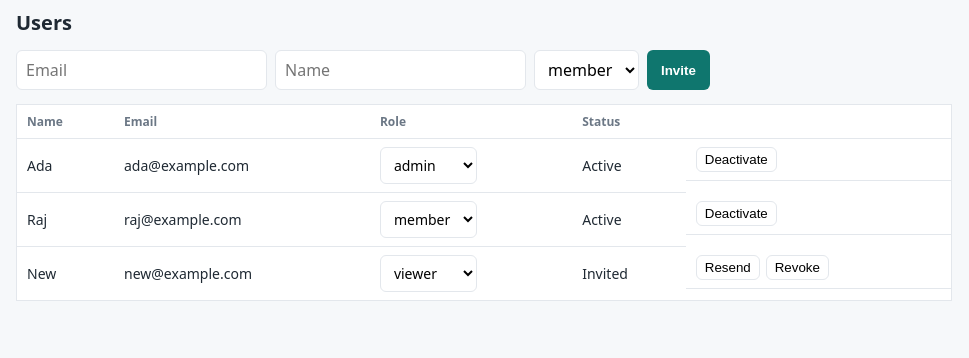
Test case: UsersAdmin › shows server errors (e.g. last admin)
Expected: the row with test id "user-1" is shown, [16, 138, 952, 192]
Click the button with test id "deactivate-1".
click(736, 160)  # box [696, 147, 777, 172]
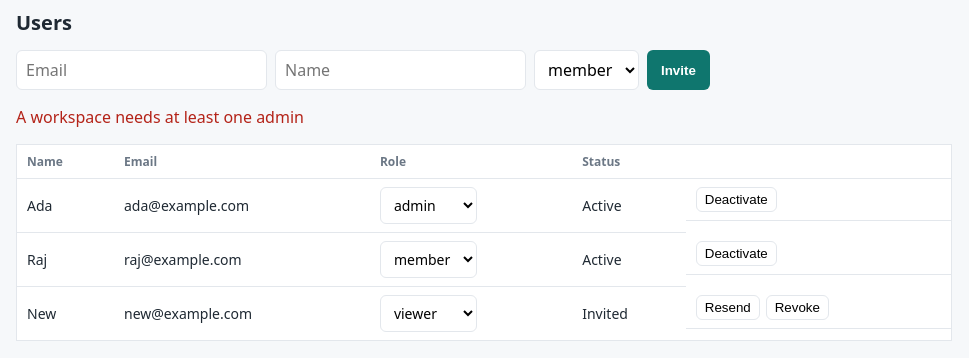
Now the message shows "at least one admin", box [16, 106, 304, 128]
